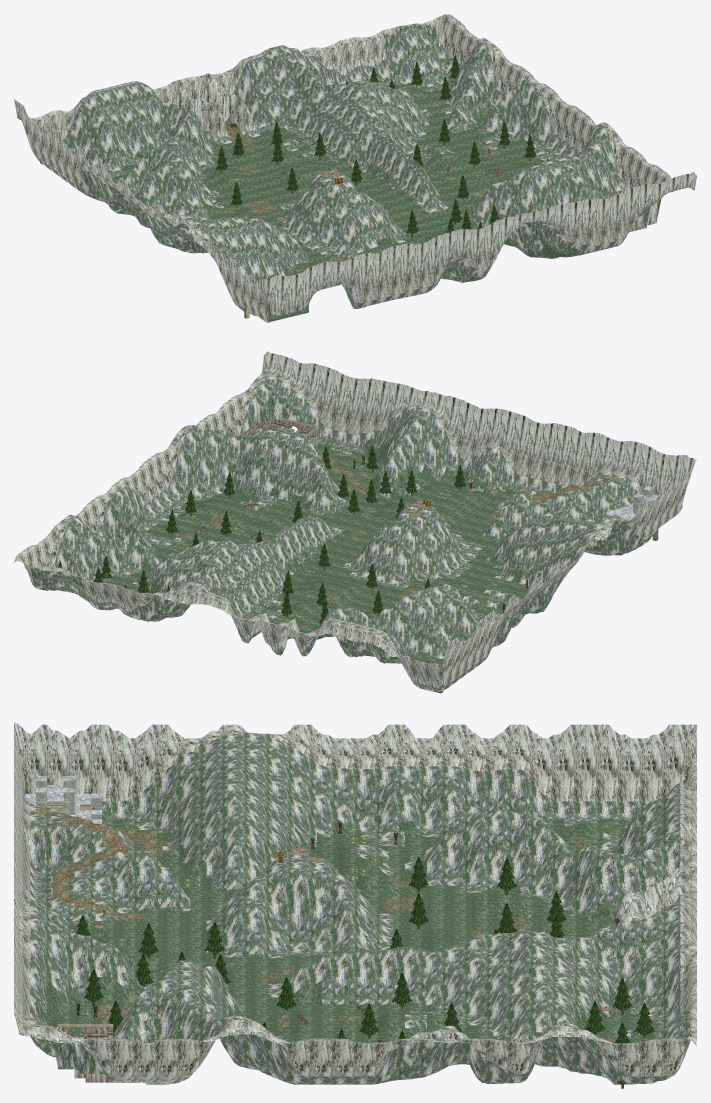
File: map.gltf
The picture shows the model from 3 angles, top to bottom: view 1: azimuth 30°, elevation 25°; view 2: azimuth 150°, elevation 25°; view 3: azimuth 270°, elevation 25°; orthographic projection. The views are drawn at different scales.
Size of the model in its own units: 124 by 19.39 by 124.
27 materials, 27 textured.
